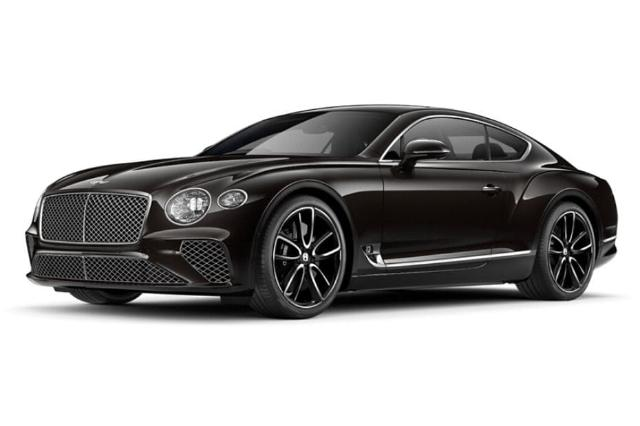bentley: (24, 103, 618, 319)
